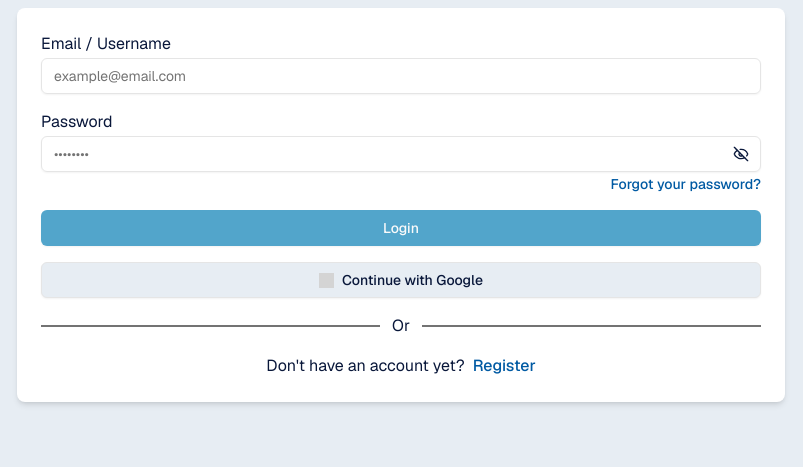
Scenario: LoginForm › validates empty fields
Click the button "Login" at (401, 228), box [41, 210, 761, 246]
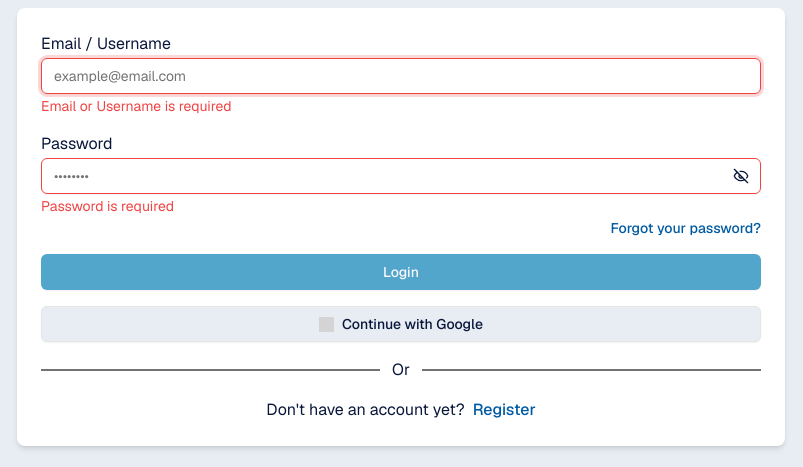
Expected: the text "Email or Username is required" is shown, [41, 97, 232, 115]
Expected: the text "Password is required" is shown, [41, 197, 174, 215]
